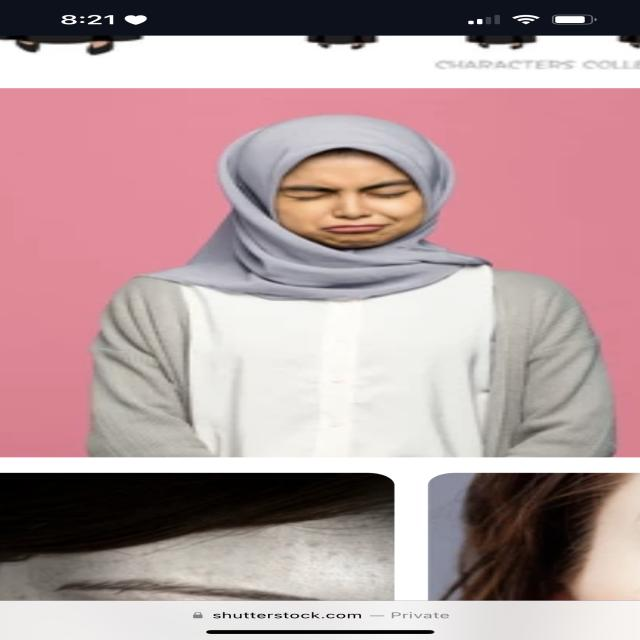sad: (259, 142, 430, 255)
